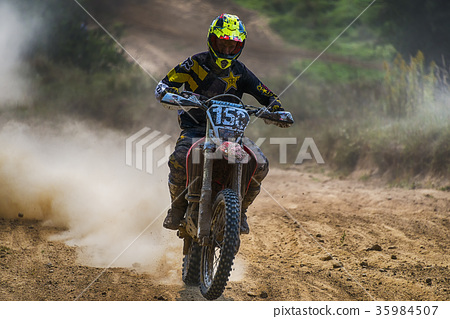helmet: (202, 12, 256, 72)
